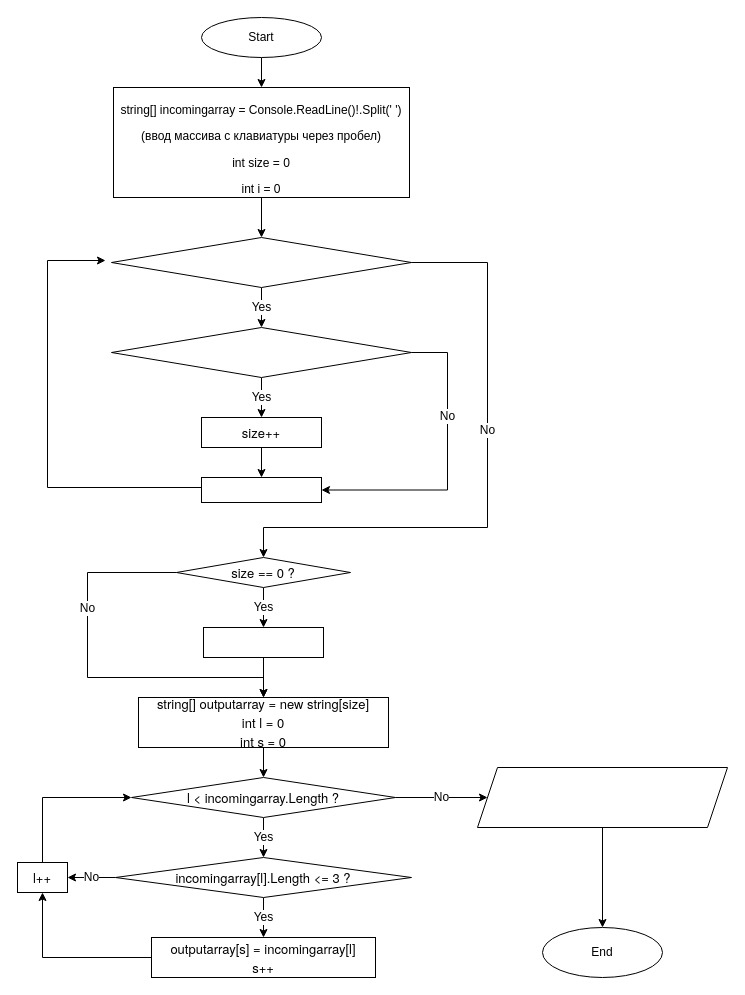
This 745x995 diagram has some shape labels left out. The centre of each missing label's shape, as x and y in pixels:
"i < incomingarray.Length ?" belongs at (261,262).
"i++" belongs at (261,489).
"incomingarray[i].Length <= 3 ?" belongs at (261,352).
"Print [incomingarray] -> [output array]" belongs at (602,797).
"size = 1" belongs at (263,642).
